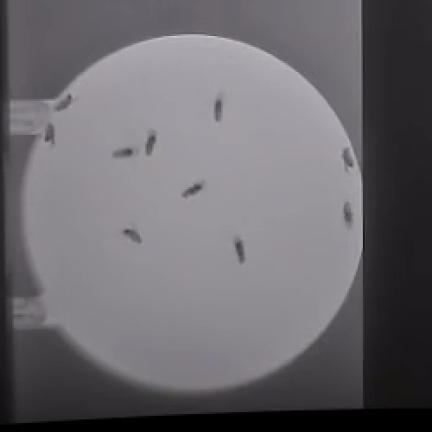fly: (182, 182, 205, 197), (123, 227, 141, 244), (234, 238, 245, 264), (56, 94, 72, 111), (146, 132, 157, 156), (113, 148, 138, 158), (343, 148, 354, 170), (44, 123, 55, 145), (344, 202, 354, 226), (215, 96, 222, 122)
